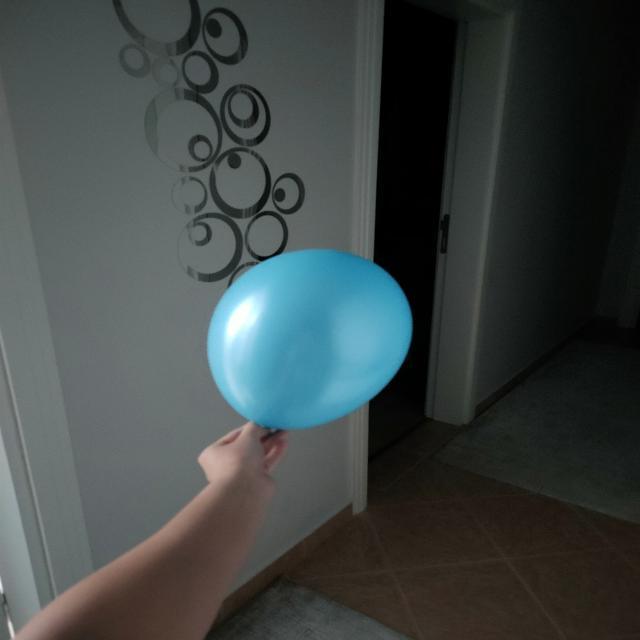blue: (212, 249, 414, 433)
